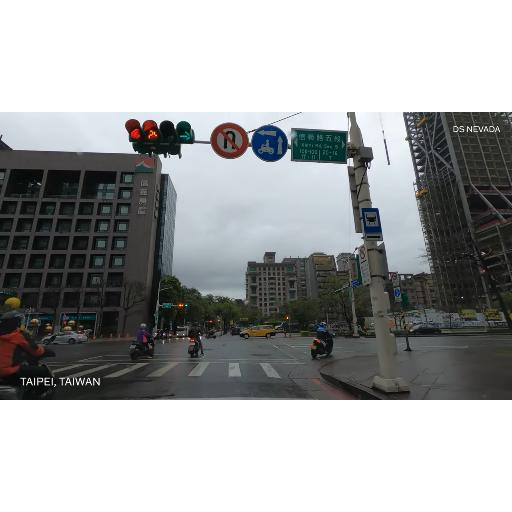Car: (38, 330, 86, 348), (238, 324, 276, 340), (408, 322, 442, 336), (172, 324, 192, 340), (233, 322, 253, 334), (280, 321, 300, 331)
